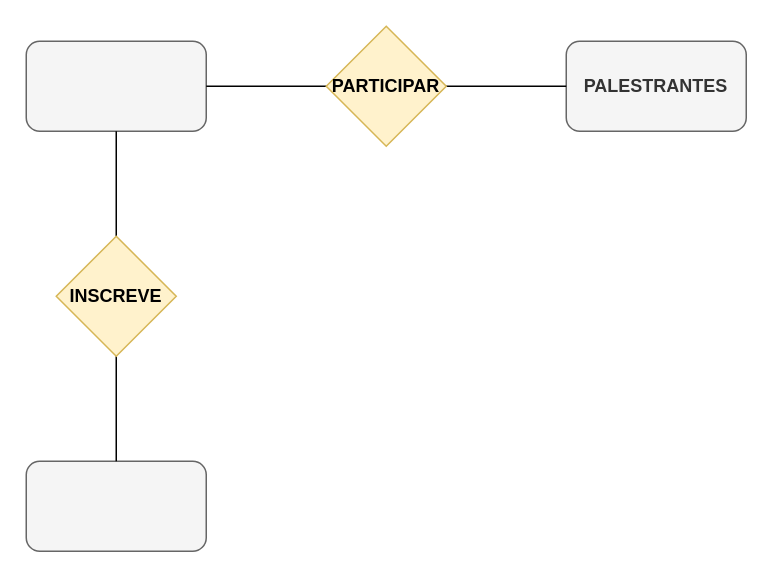
Some shapes in this 773 by 578 pixel diagram are drawn without their labels. Each missing label, with the centre of its shape:
"ESTUDANTES" goes at (115,505).
"EVENTO" goes at (115,85).
